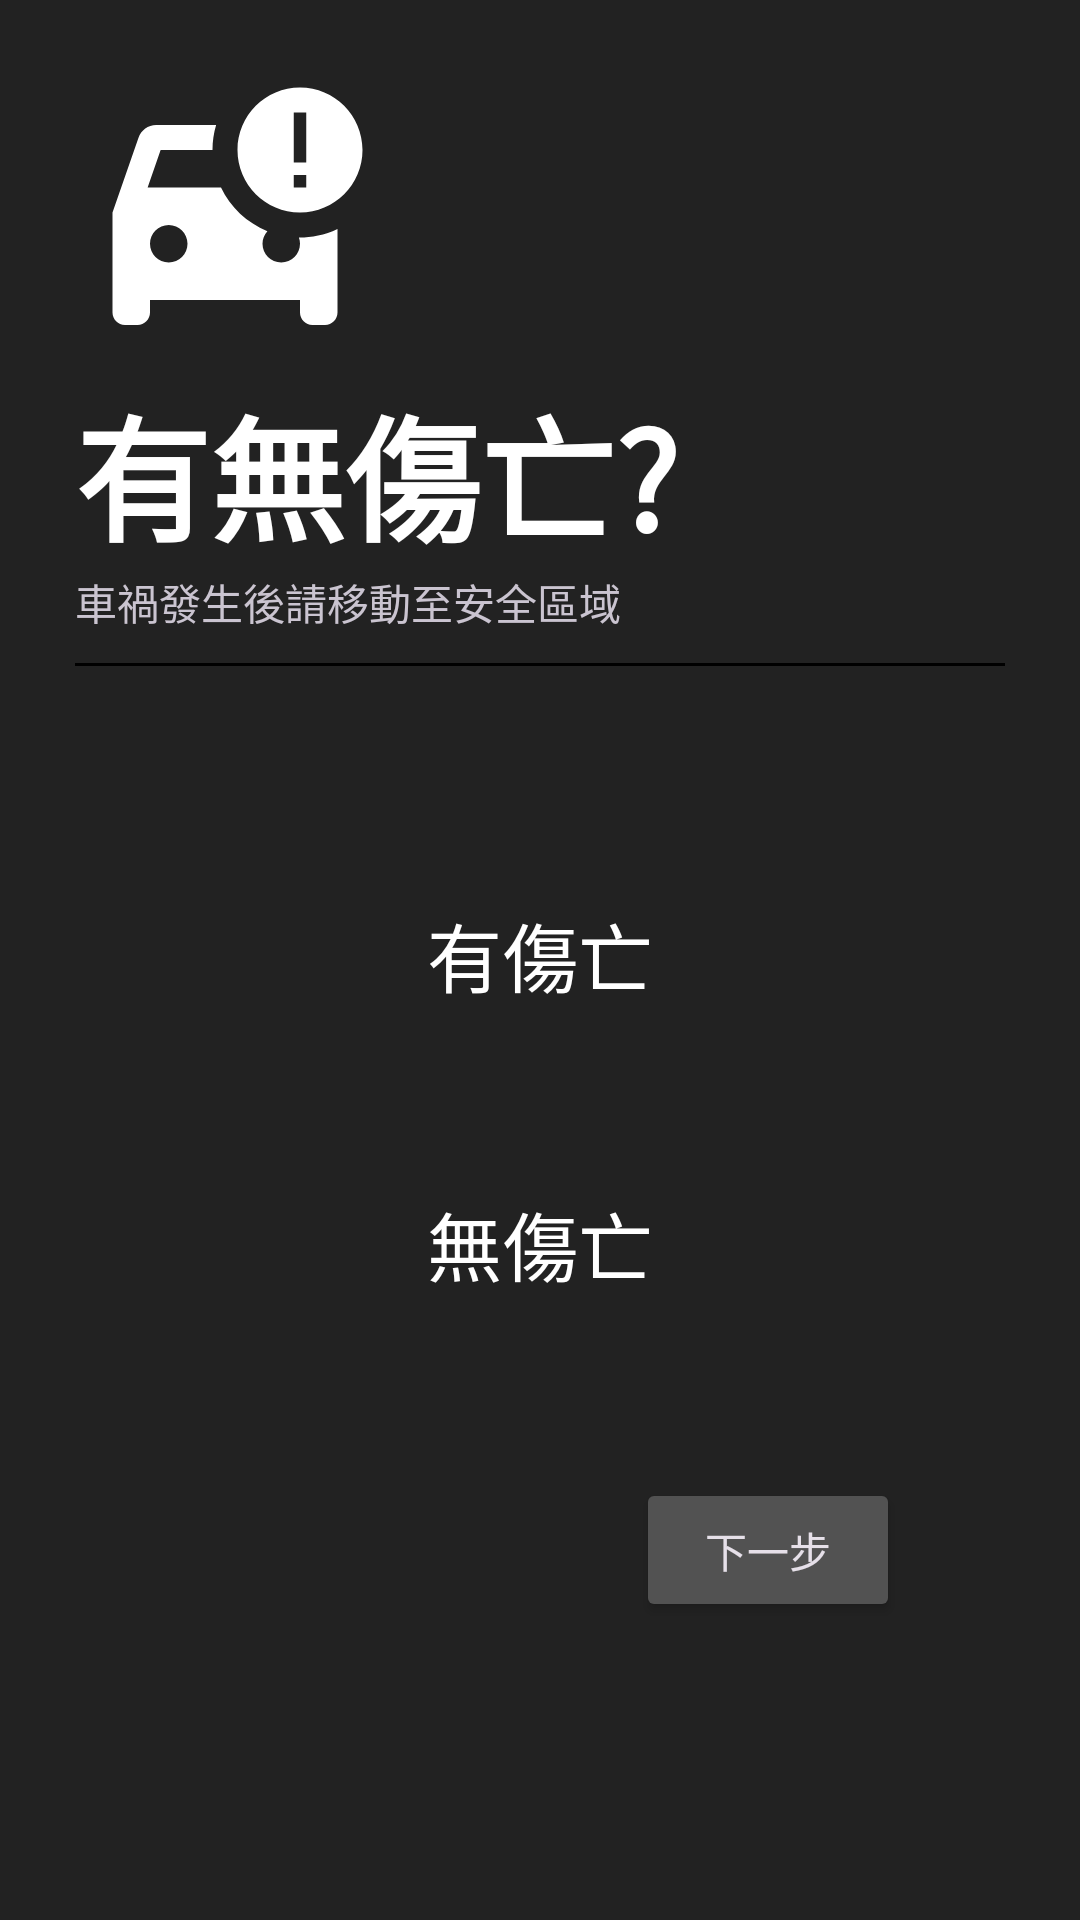

Screen size 1080px×1920px. Icon name, then its box in pixels as [left=x1, top=y1, right=x2, bottom=y2]:
car crash: [left=112, top=87, right=363, bottom=325]
